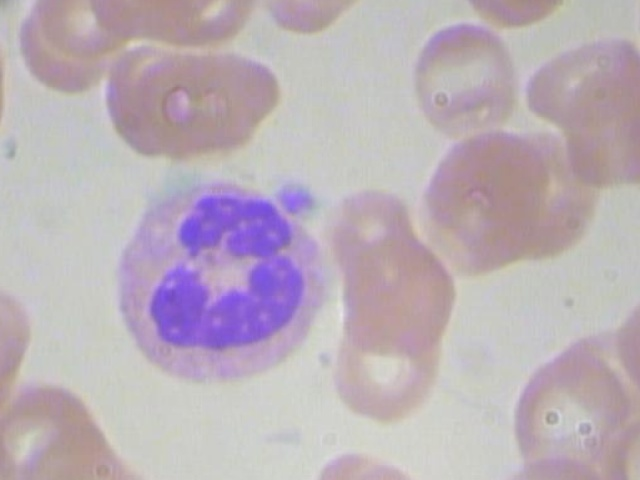RBC: (399, 125, 551, 287), (132, 46, 290, 168), (330, 236, 463, 356), (500, 349, 633, 469), (405, 10, 526, 141), (325, 318, 452, 427), (0, 276, 43, 396), (117, 0, 236, 18), (474, 0, 597, 14), (0, 23, 14, 130), (269, 0, 388, 4)
WBC: (108, 166, 346, 395)
